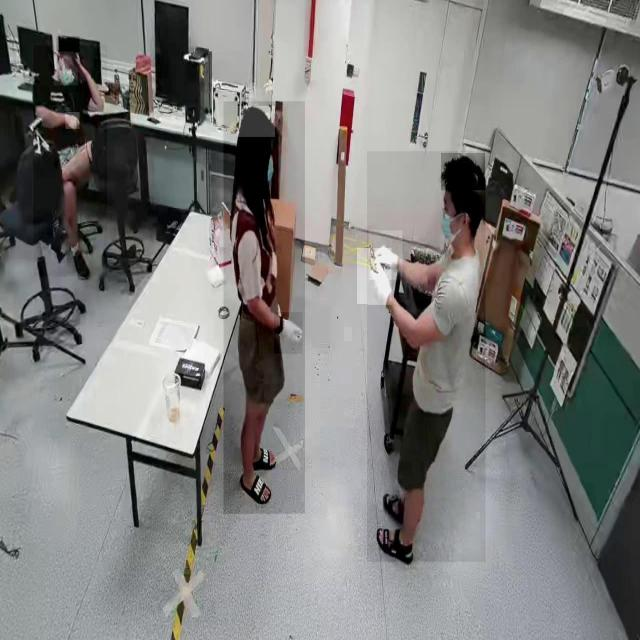face_mask: (436, 190, 472, 244), (256, 134, 278, 199), (54, 52, 78, 86)
hand_glove: (357, 248, 391, 305), (368, 230, 402, 280), (274, 312, 303, 355)
hand_noglove: (66, 112, 80, 130), (74, 49, 82, 67)
head_nohelmet: (441, 153, 485, 191), (238, 106, 276, 138), (56, 36, 80, 52)
person: (367, 151, 486, 563), (224, 101, 306, 515), (34, 45, 108, 278)
